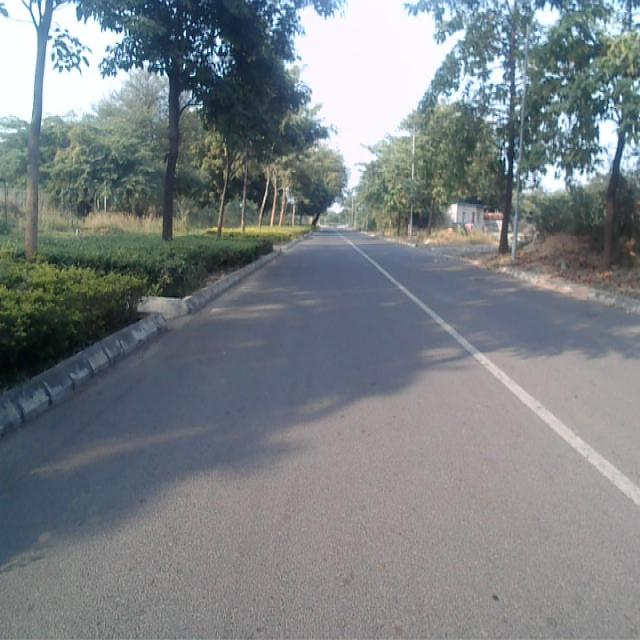lane: (0, 234, 640, 640)
